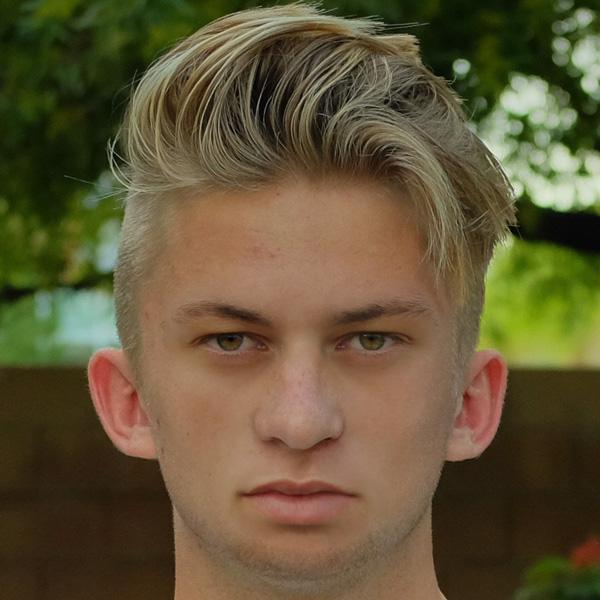Eyes: (183, 312, 277, 371), (325, 317, 414, 365)
